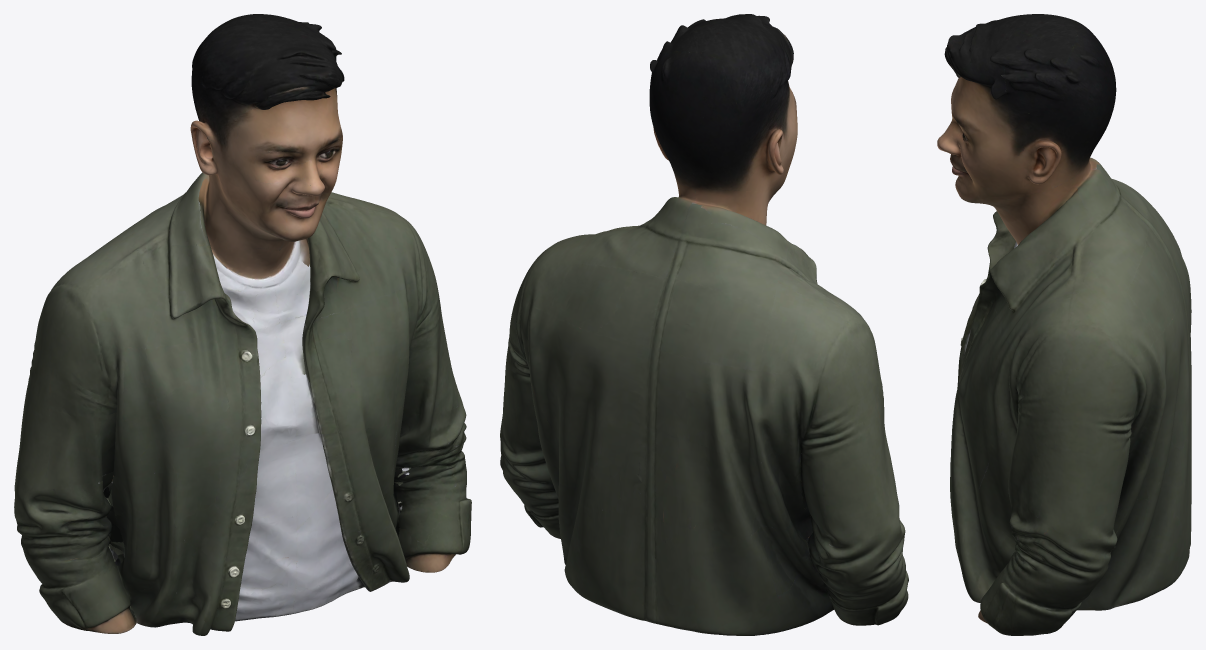
Rendered from aman-singh-model.glb.
3 views of the same model, side by side, from view 1: azimuth 30°, elevation 25°; view 2: azimuth 150°, elevation 25°; view 3: azimuth 270°, elevation 25° (orthographic). The views are drawn at different scales.
Parts seen in each view (by area): view 1: tmpf1b2gx11obj; view 2: tmpf1b2gx11obj; view 3: tmpf1b2gx11obj.
Boxes of the visible parts, left/top/right/bottom form: tmpf1b2gx11obj: left=14, top=14, right=471, bottom=635; tmpf1b2gx11obj: left=500, top=14, right=908, bottom=635; tmpf1b2gx11obj: left=937, top=14, right=1191, bottom=635.
Size of the model in its own units: 0.7945 by 1 by 0.4359.
1 material, 1 textured.
